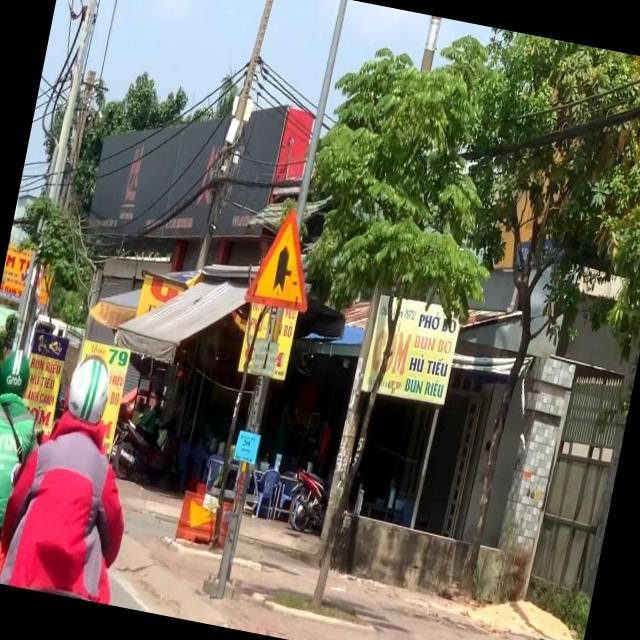W-207b: (244, 201, 324, 311)
